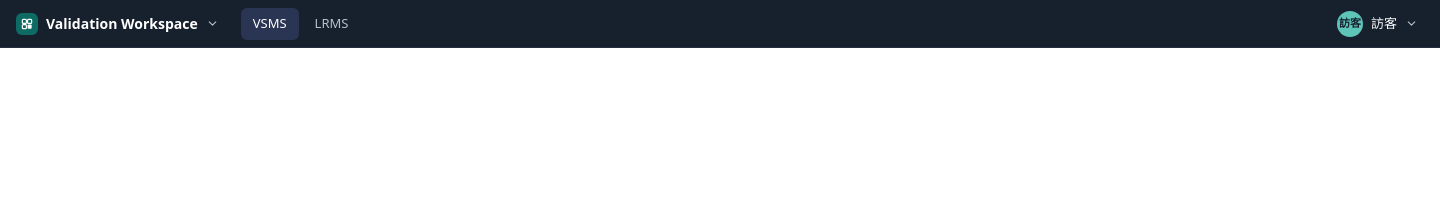
Test: Topbar：使用者選單 › vauth 訪客：沒有「修改密碼」，只有「使用說明」與分隔線後的「登出」
Click the button with aria-label "使用者選單" at (1378, 24), box [1333,8,1424,40]
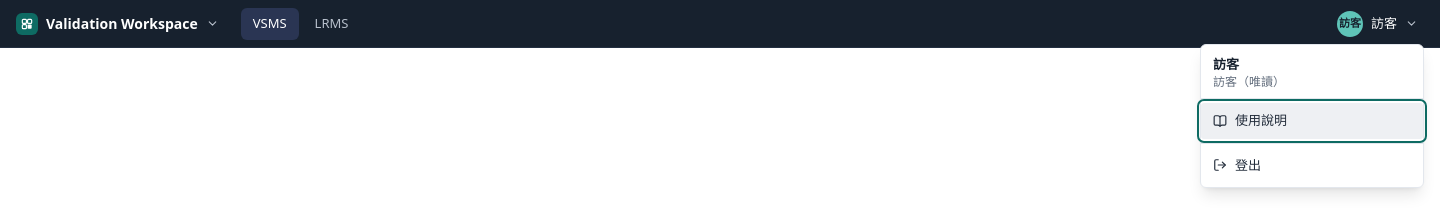
Now the menu items read "使用說明", "登出", in this order, box [1201,103,1423,138]; [1201,148,1423,183]
